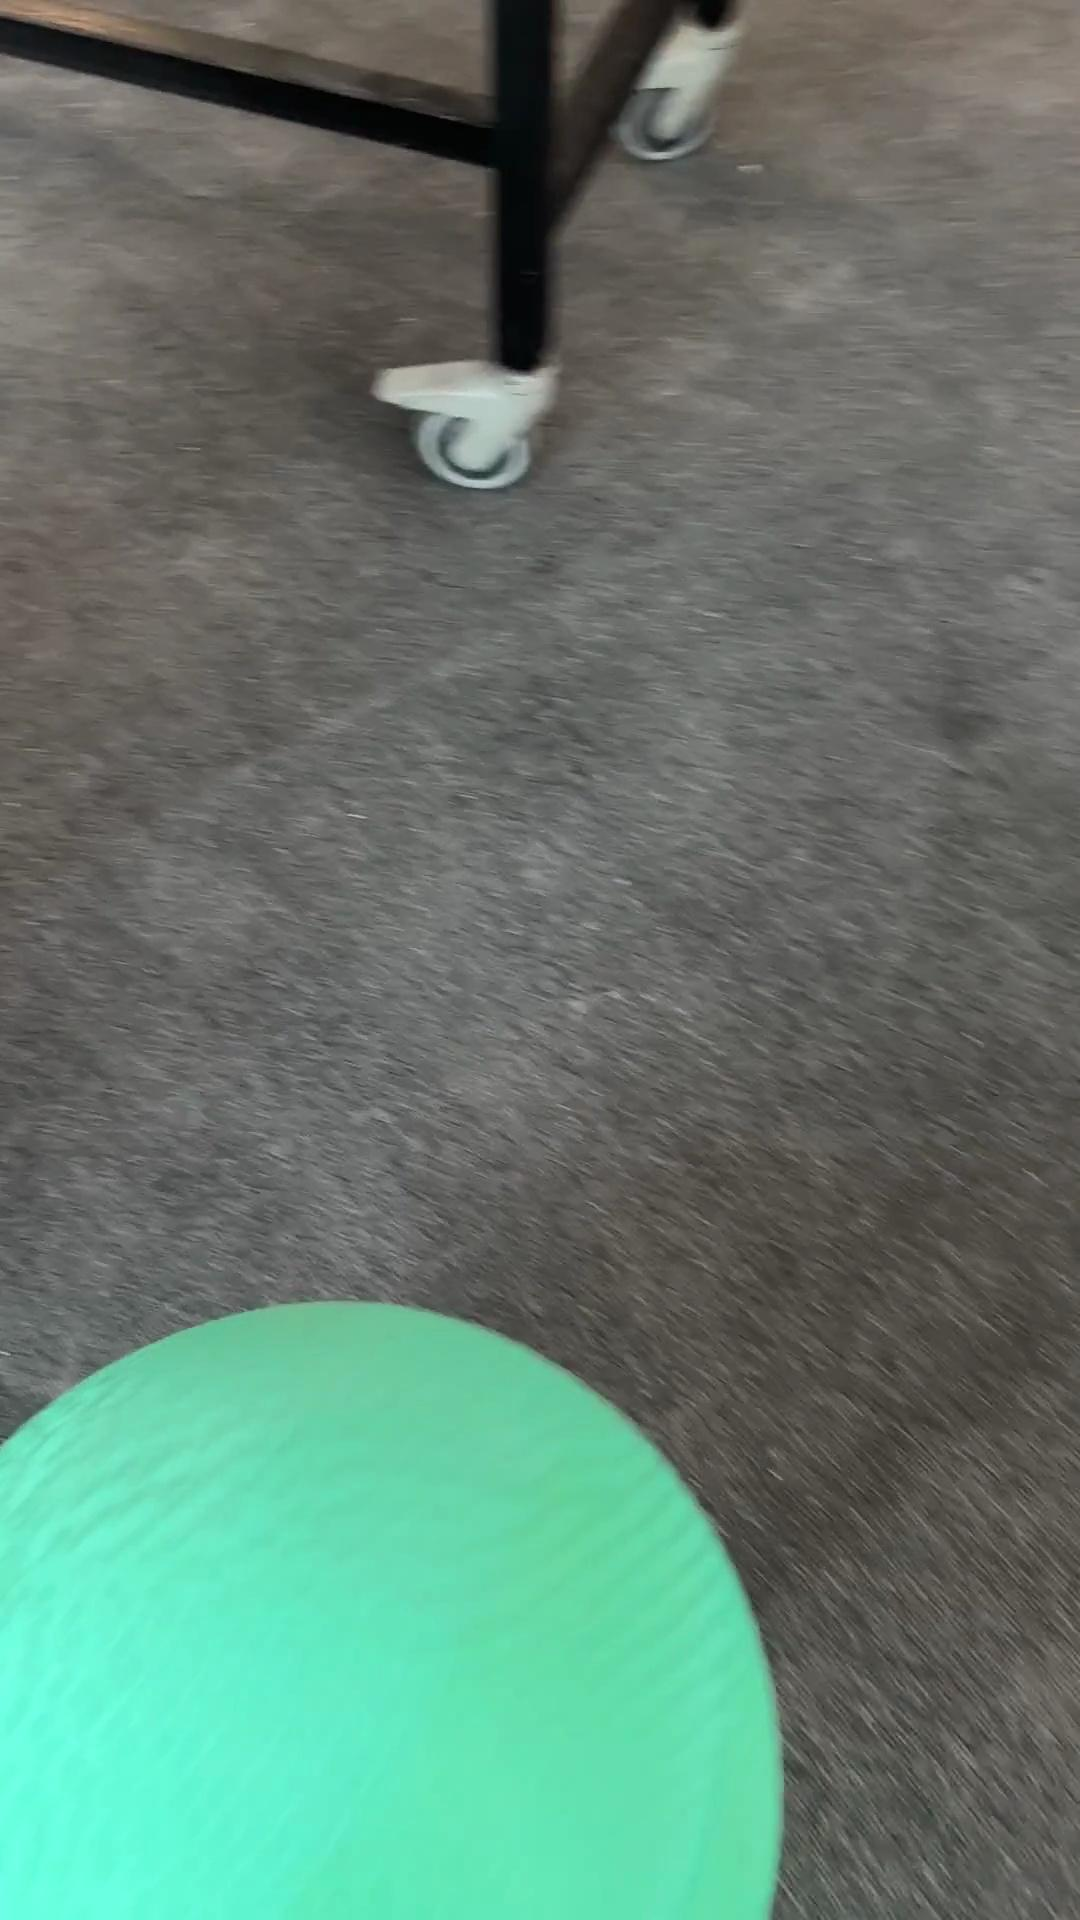ALGAE: (1, 1295, 787, 1915)
